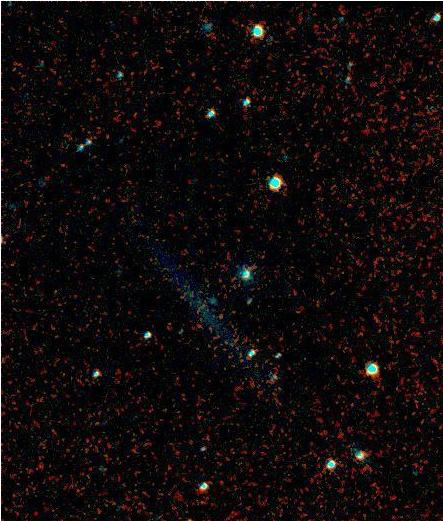star: (89, 122, 119, 152)
